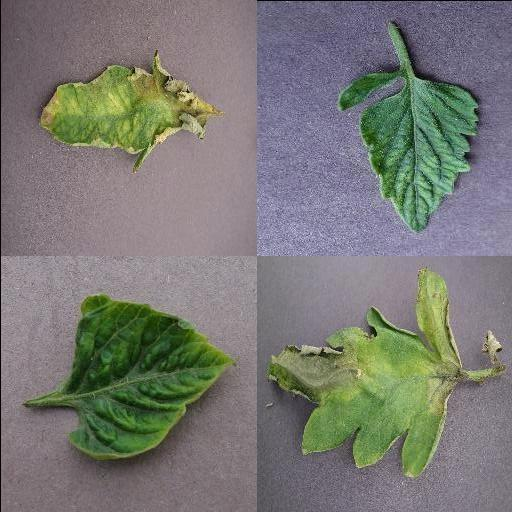Late Blight: (265, 266, 461, 478), (36, 52, 222, 174)
Mosaic Virus: (336, 70, 476, 236)
Yellow Leaf Curl Virus: (66, 294, 234, 464)
